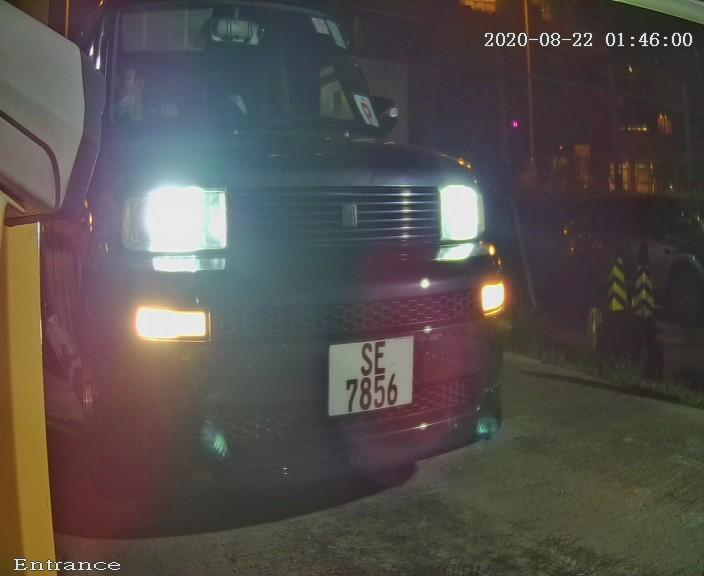Car: (7, 3, 563, 530)
License Plate: (312, 325, 422, 427)
